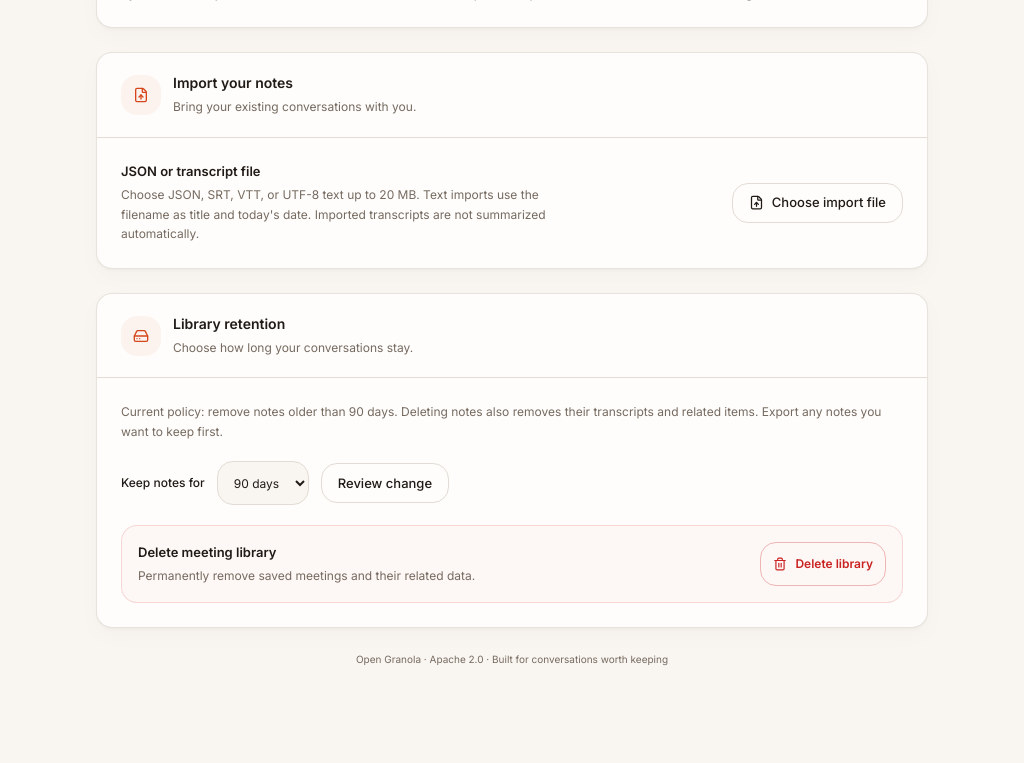
it: library purge and language settings › reloads native preferences after purge (cleanup error: false)
The width and height of the screenshot is (1024, 763).
(page scrolled)
Click the button "Delete library" at (823, 564), box [760,542,886,586]
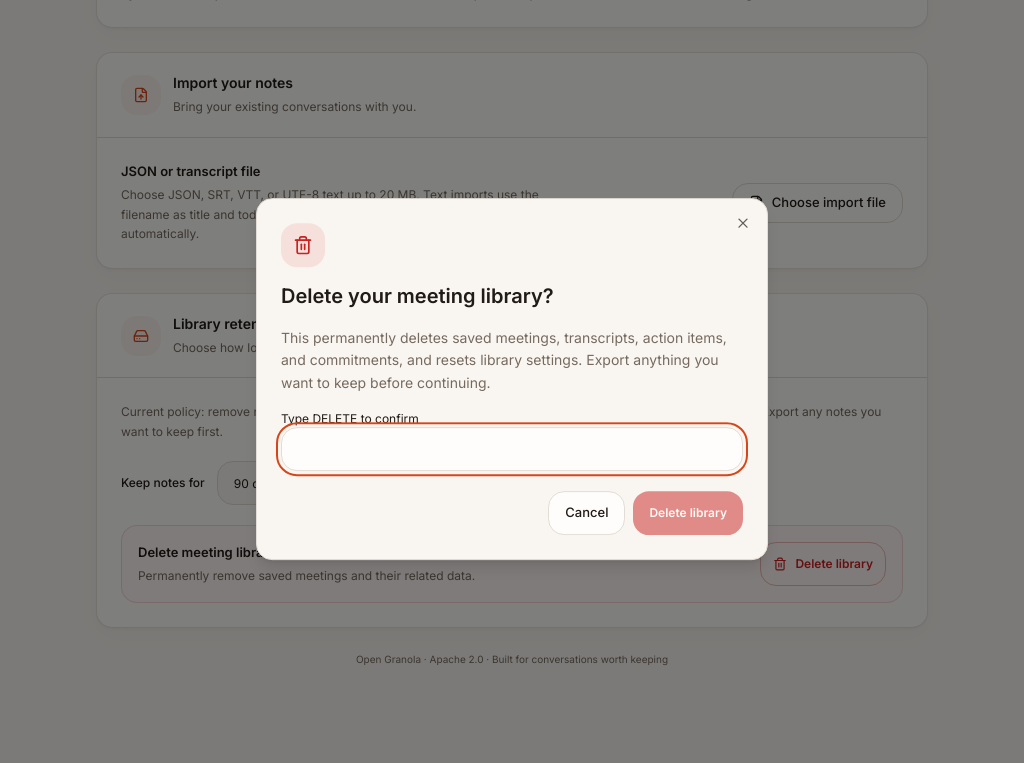
Type "DELETE" into the field labelled "Type DELETE to confirm" at (512, 449), box [281,427,743,471]
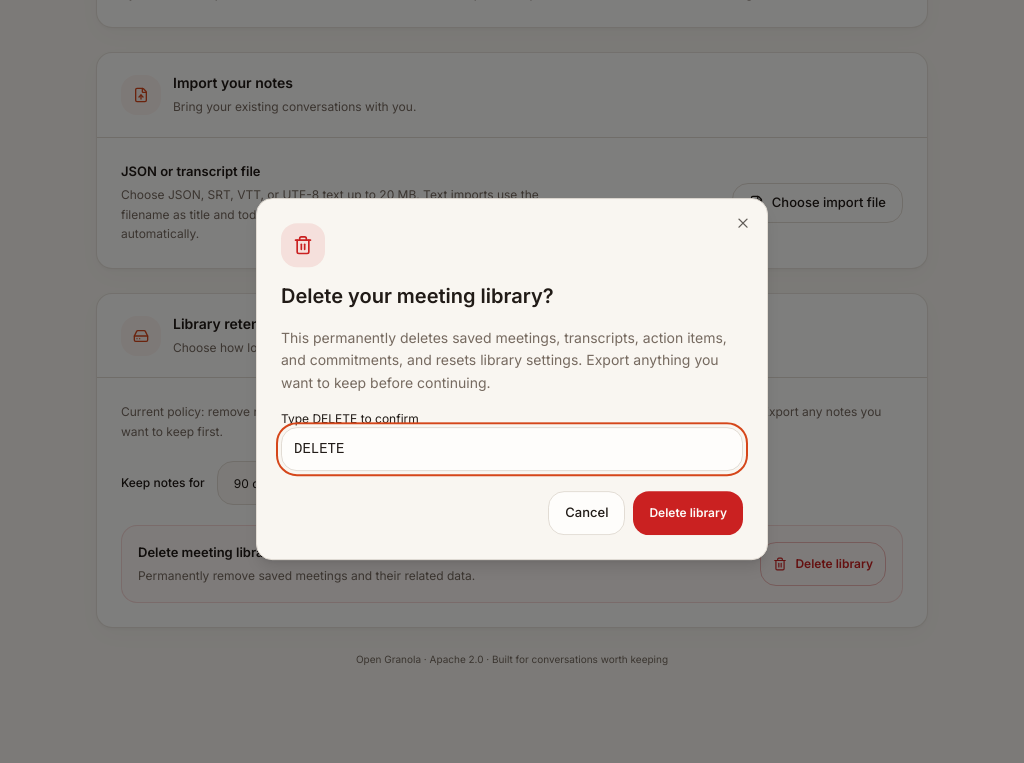
Click the button "Delete library" at (688, 513), box [633,491,743,535]
(page scrolled)
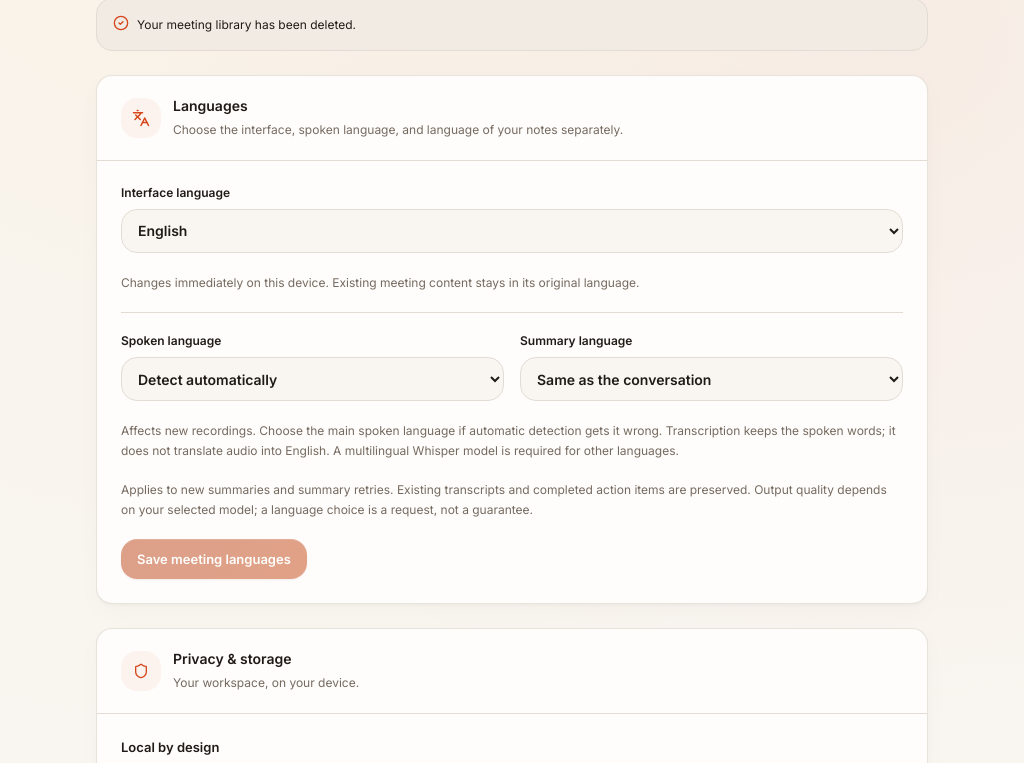
expect the dropdown labelled "Spoken language" shows "Detect automatically": met, box [121,357,504,401]
expect the dropdown labelled "Summary language" shows "Same as the conversation": met, box [520,357,903,401]
